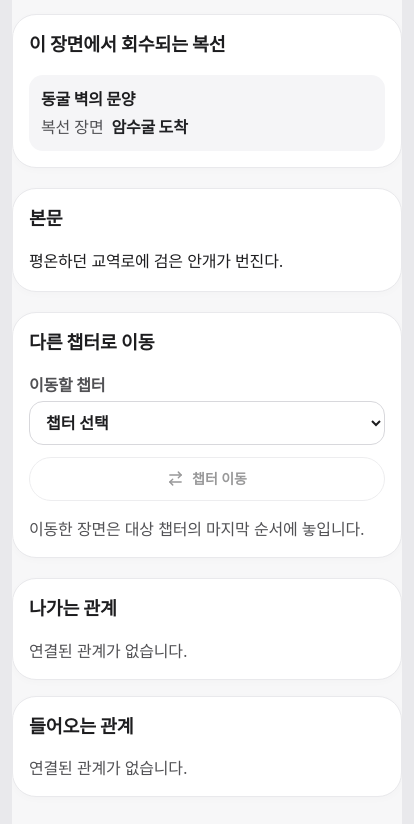
Test: Task 10 Plot pages › shows payoffs on the payoff scene and moves a scene to another chapter
(page scrolled)
Expected: the text "동굴 벽의 문양" is shown, [41, 88, 135, 108]
Select "Chapter2" in the dropdown labelled "이동할 챕터" at (207, 423), box [29, 401, 385, 445]
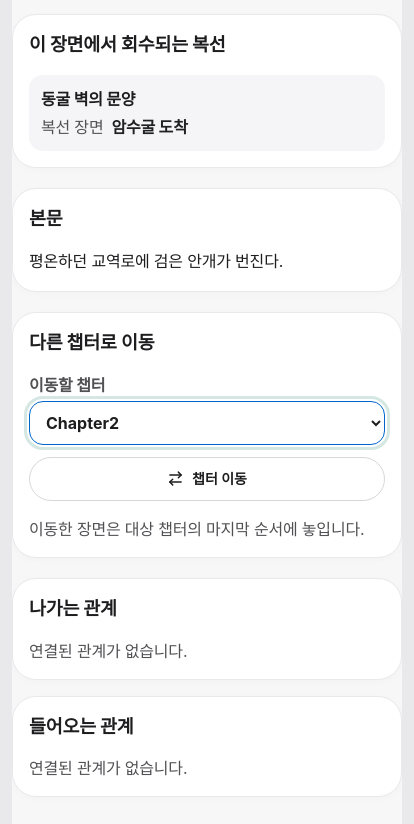
Click the button "챕터 이동" at (207, 479), box [29, 457, 385, 501]
(page scrolled)
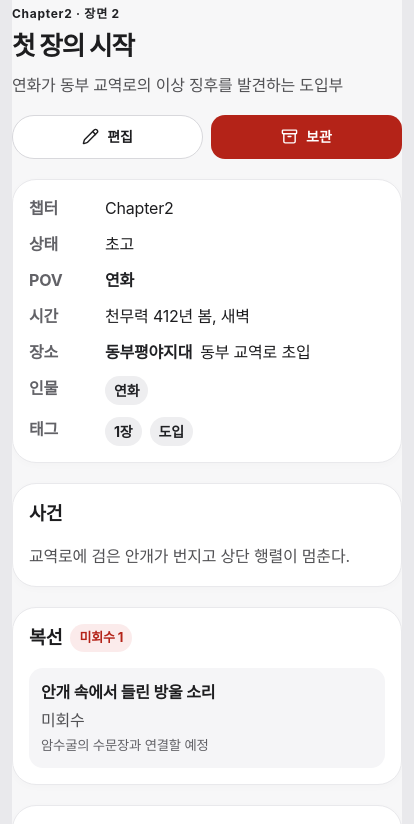
Now the text "Chapter2 · 장면 2" is shown, box [12, 6, 120, 21]
